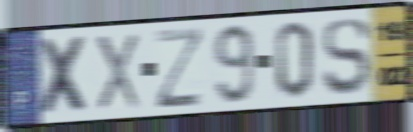0: (272, 18, 316, 102)
9: (211, 20, 256, 107)
S: (320, 15, 373, 98)
X: (36, 34, 94, 118), (93, 31, 142, 113)
Z: (153, 24, 206, 112)
